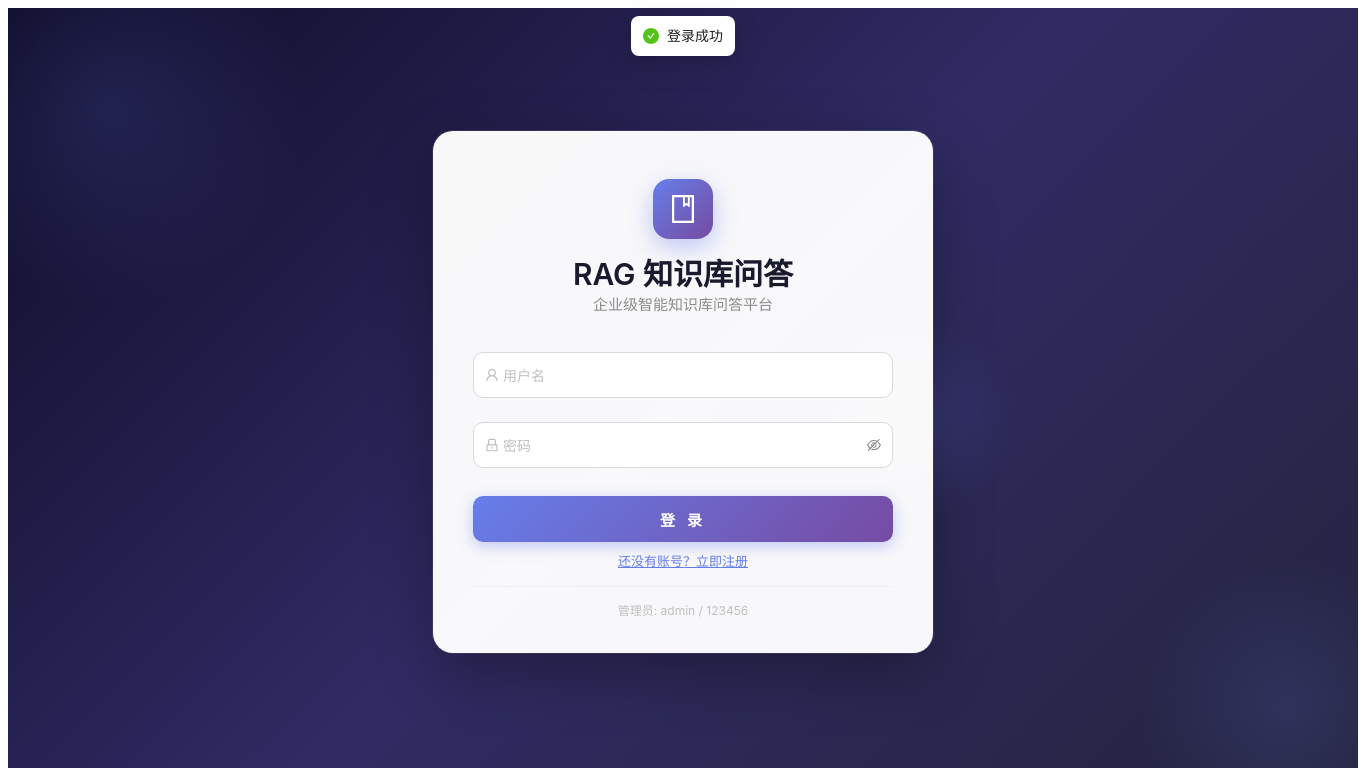
Scenario: Login 页面 › 空表单应显示验证错误
Click the button "登 录".
click(683, 519)  # box [473,496,893,542]
(page scrolled)
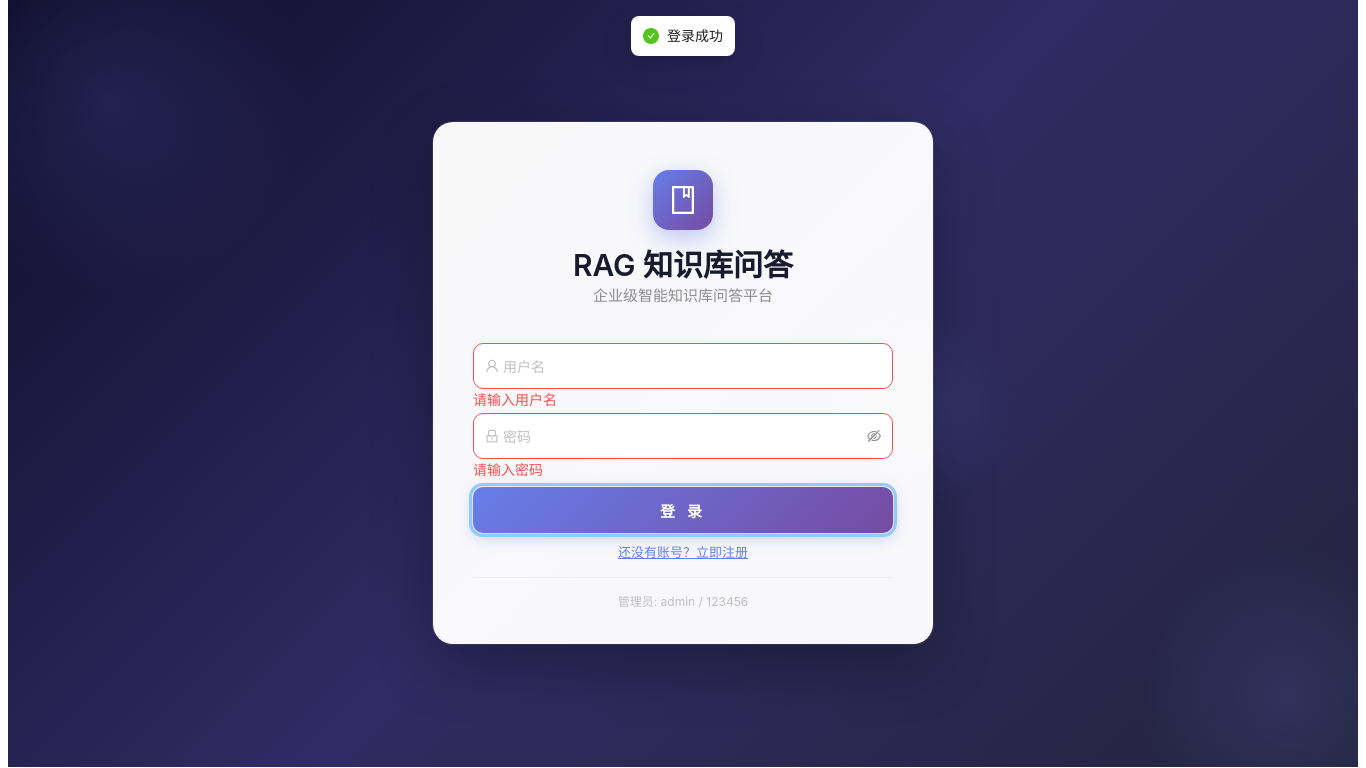
Expected: the text "请输入用户名" is shown, [473,391,557,408]
